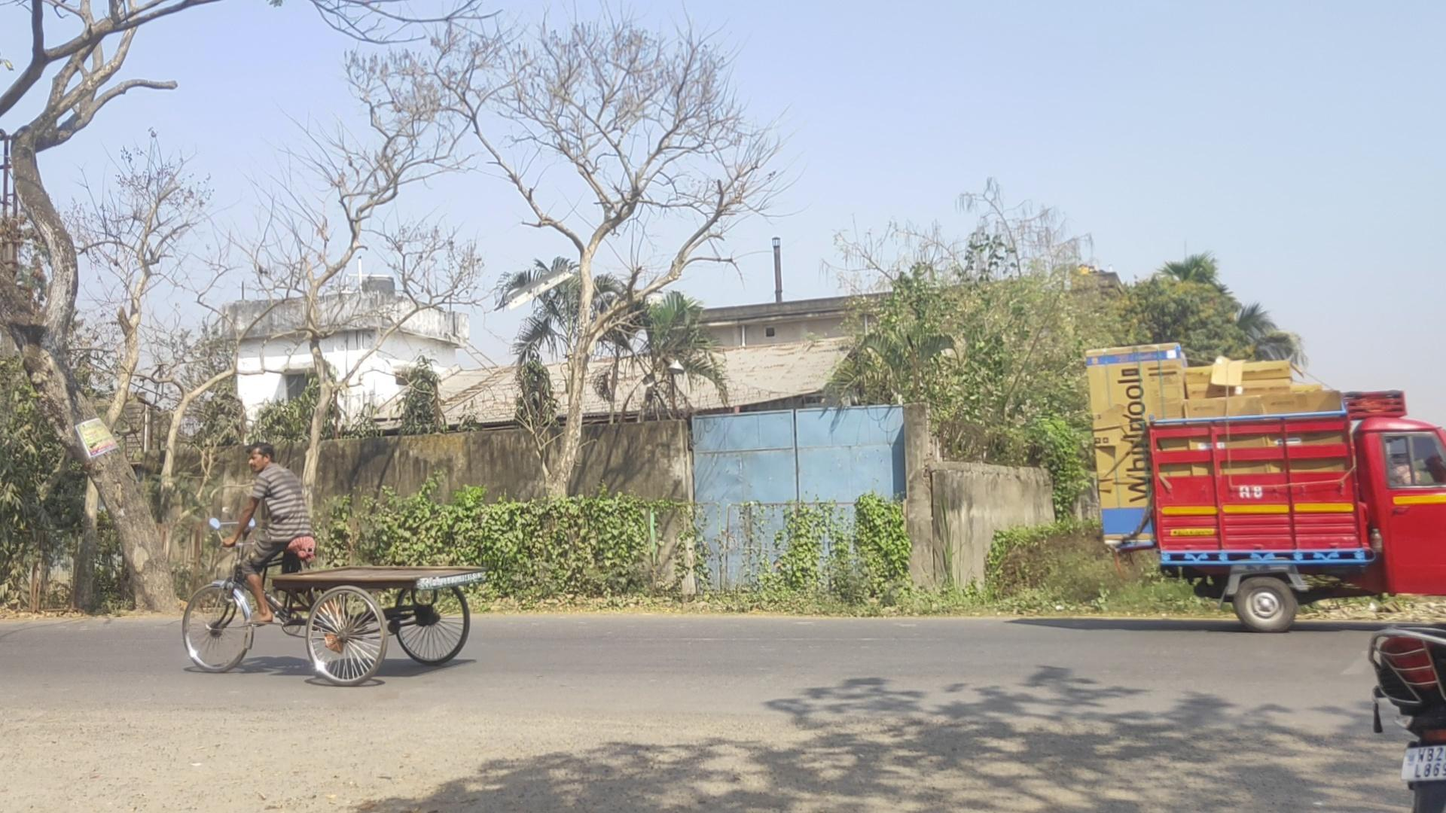van: (1085, 342, 1446, 634)
